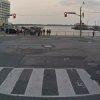Crosswalk: (4, 54, 99, 97)
